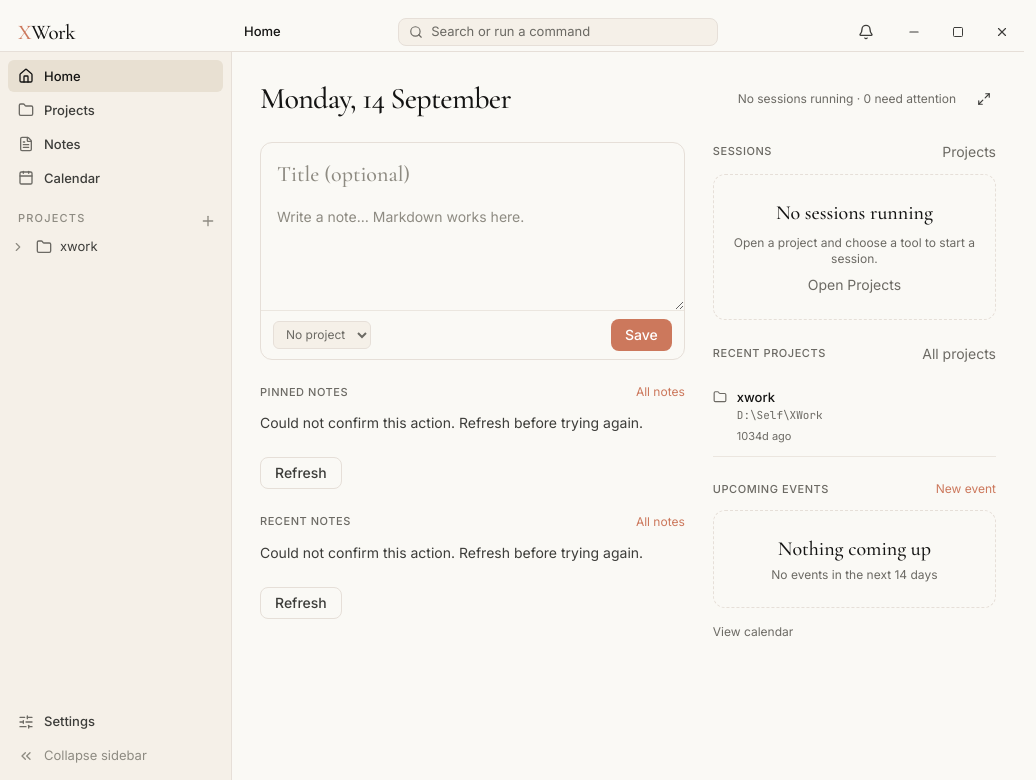
Test: AppShell › keeps the same chrome while the content area changes
Expected: the heading "Monday, 14 September" is shown, x1=260 y1=80 x2=511 y2=118
What coordinates should you click on to do the following:
click the link "Calendar"
I would click on:
 (59, 178)
Its box is x1=18 y1=170 x2=100 y2=186.
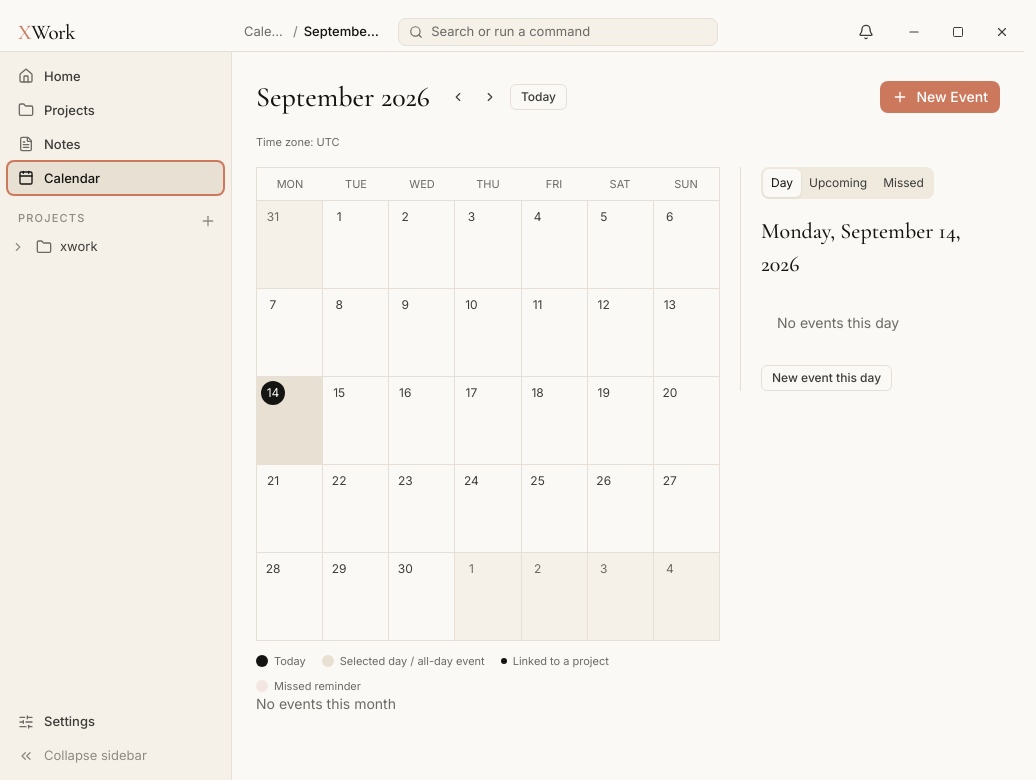
Result: the heading "September 2026" is shown at x1=256 y1=76 x2=430 y2=118
Result: the heading "Monday, 14 September" is gone
